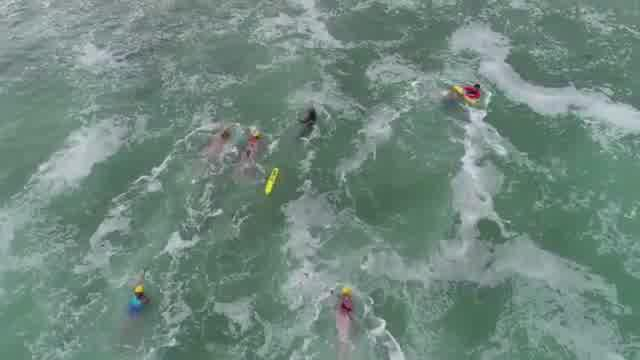human: (328, 288, 354, 350), (123, 286, 151, 314), (458, 77, 484, 105)
